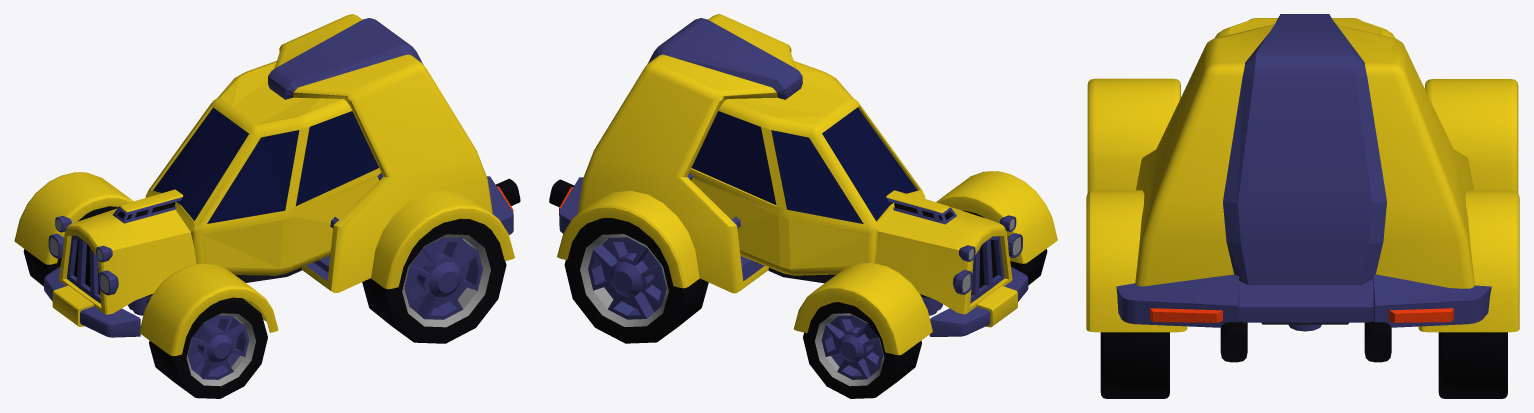
The model's file is Car_1.FBX.
The picture shows the model from 3 angles, left to right: view 1: azimuth 30°, elevation 25°; view 2: azimuth 150°, elevation 25°; view 3: azimuth 270°, elevation 25°; orthographic projection. The views are drawn at different scales.
Visible parts, largest first — view 1: Box117, Box118, Box116, Weel 3, Weel 1, Cylinder093, Cylinder095, Cylinder094, weel 2, Box119; view 2: Box117, Box118, Box116, Weel 4, weel 2, Cylinder094, Cylinder093, Cylinder096, Box119, Weel 1; view 3: Box118, Box119, Cylinder093, Cylinder094, Cylinder095, Cylinder096, Weel 3, Weel 4, Tube, Tube_ncl1_1, Box117.
Boxes of the visible parts, box(x1,y1,x2,y2) form: Box117: box(145, 60, 381, 275); Box118: box(268, 14, 492, 292); Box116: box(44, 189, 196, 337); Weel 3: box(362, 218, 506, 343); Weel 1: box(149, 297, 267, 398); Cylinder093: box(139, 263, 278, 356); Cylinder095: box(371, 190, 514, 289); Cylinder094: box(14, 172, 133, 264); weel 2: box(23, 206, 117, 286); Box119: box(487, 176, 513, 234); Box117: box(689, 61, 925, 275); Box118: box(577, 14, 802, 293); Box116: box(874, 190, 1028, 336); Weel 4: box(564, 218, 708, 343); weel 2: box(803, 302, 921, 398); Cylinder094: box(793, 262, 932, 355); Cylinder093: box(936, 171, 1057, 263); Cylinder096: box(557, 191, 699, 288); Box119: box(559, 177, 583, 233); Weel 1: box(963, 210, 1047, 285); Box118: box(1135, 14, 1474, 288); Box119: box(1116, 274, 1491, 327); Cylinder093: box(1087, 78, 1180, 192); Cylinder094: box(1425, 79, 1518, 192); Cylinder095: box(1086, 190, 1187, 332); Cylinder096: box(1418, 190, 1519, 332); Weel 3: box(1100, 332, 1169, 398); Weel 4: box(1438, 332, 1507, 398); Tube: box(1364, 321, 1391, 362); Tube_ncl1_1: box(1220, 321, 1247, 362); Box117: box(1214, 18, 1395, 38).
Size of the model in its own units: 11.98 by 6.86 by 7.83.
